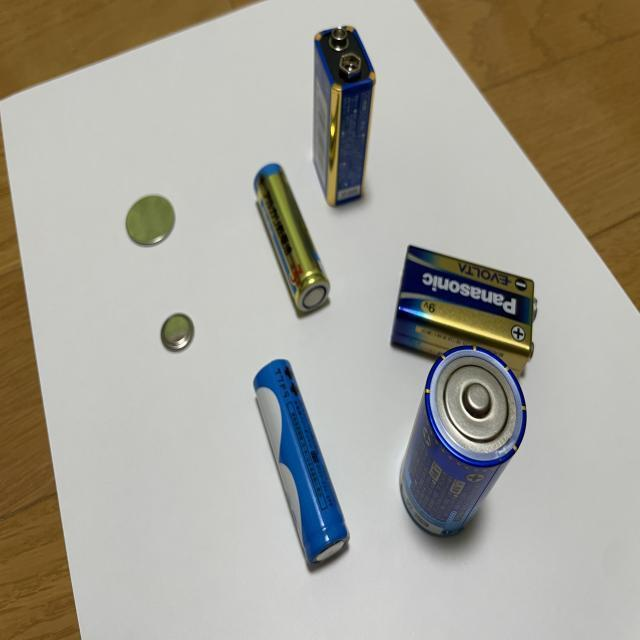9V: (388, 241, 539, 379), (310, 26, 378, 206)
AAA: (253, 357, 351, 566), (254, 162, 331, 314)
COIN: (124, 192, 176, 247), (160, 312, 194, 353)
